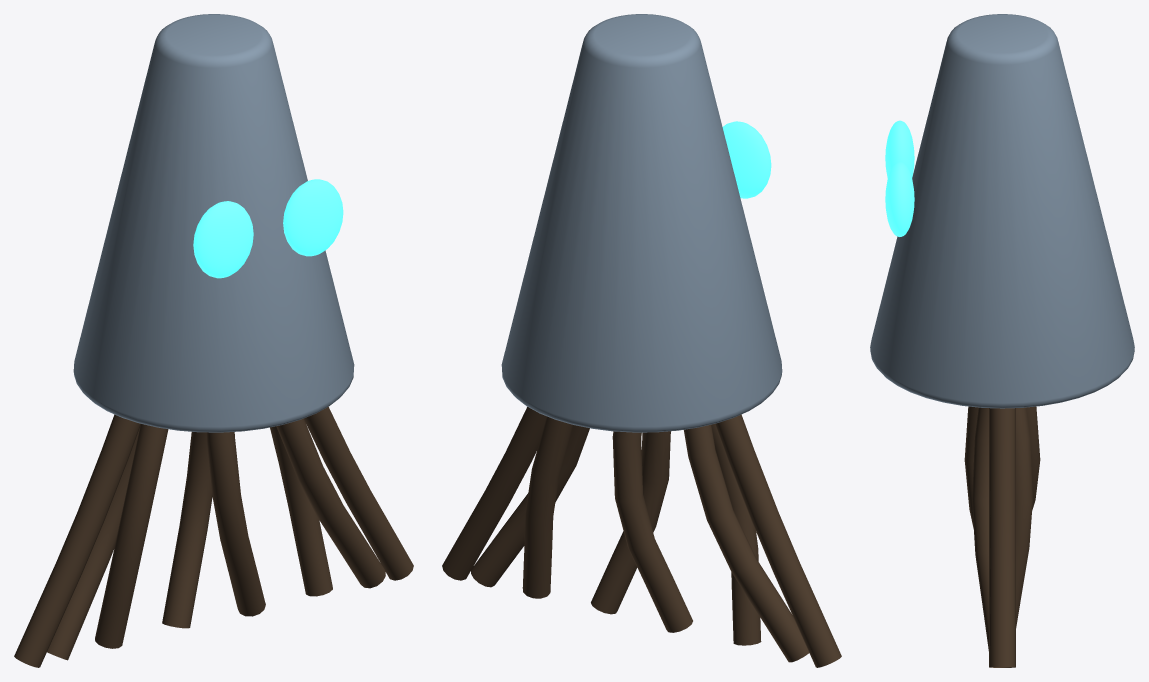
Rendered from aquatic_v5.glb.
The picture shows the model from 3 angles, left to right: view 1: azimuth 30°, elevation 25°; view 2: azimuth 150°, elevation 25°; view 3: azimuth 270°, elevation 25°; orthographic projection. The views are drawn at different scales.
Visible parts, largest first — view 1: SQUID_MANTLE_PRIMARY, SQUID_ARM_SECONDARY.004, SQUID_ARM_SECONDARY.005, SQUID_ARM_SECONDARY.006, SQUID_ARM_SECONDARY.007, SQUID_ARM_SECONDARY.002, SQUID_ARM_SECONDARY, SQUID_ARM_SECONDARY.003, SQUID_ARM_SECONDARY.001, SQUID_EYE_EMISSIVE, SQUID_EYE_EMISSIVE.001; view 2: SQUID_MANTLE_PRIMARY, SQUID_ARM_SECONDARY.004, SQUID_ARM_SECONDARY.003, SQUID_ARM_SECONDARY.002, SQUID_ARM_SECONDARY, SQUID_ARM_SECONDARY.001, SQUID_ARM_SECONDARY.006, SQUID_ARM_SECONDARY.007, SQUID_ARM_SECONDARY.005, SQUID_EYE_EMISSIVE; view 3: SQUID_MANTLE_PRIMARY, SQUID_ARM_SECONDARY, SQUID_ARM_SECONDARY.007, SQUID_ARM_SECONDARY.001, SQUID_EYE_EMISSIVE.001, SQUID_EYE_EMISSIVE, SQUID_ARM_SECONDARY.006, SQUID_ARM_SECONDARY.002.
Part boxes in pixels (x1=…): SQUID_MANTLE_PRIMARY: x1=73, y1=14, x2=354, y2=432; SQUID_ARM_SECONDARY.004: x1=14, y1=414, x2=140, y2=667; SQUID_ARM_SECONDARY.005: x1=95, y1=424, x2=168, y2=648; SQUID_ARM_SECONDARY.006: x1=206, y1=432, x2=265, y2=616; SQUID_ARM_SECONDARY.007: x1=276, y1=418, x2=385, y2=588; SQUID_ARM_SECONDARY.002: x1=162, y1=432, x2=212, y2=628; SQUID_ARM_SECONDARY: x1=304, y1=407, x2=413, y2=580; SQUID_ARM_SECONDARY.003: x1=47, y1=428, x2=139, y2=660; SQUID_ARM_SECONDARY.001: x1=270, y1=426, x2=332, y2=596; SQUID_EYE_EMISSIVE: x1=193, y1=201, x2=253, y2=278; SQUID_EYE_EMISSIVE.001: x1=283, y1=179, x2=343, y2=256; SQUID_MANTLE_PRIMARY: x1=501, y1=14, x2=782, y2=432; SQUID_ARM_SECONDARY.004: x1=715, y1=414, x2=841, y2=667; SQUID_ARM_SECONDARY.003: x1=684, y1=424, x2=809, y2=662; SQUID_ARM_SECONDARY.002: x1=612, y1=431, x2=692, y2=632; SQUID_ARM_SECONDARY: x1=442, y1=407, x2=546, y2=580; SQUID_ARM_SECONDARY.001: x1=522, y1=416, x2=573, y2=598; SQUID_ARM_SECONDARY.006: x1=591, y1=431, x2=670, y2=614; SQUID_ARM_SECONDARY.007: x1=471, y1=425, x2=589, y2=587; SQUID_ARM_SECONDARY.005: x1=711, y1=424, x2=761, y2=645; SQUID_EYE_EMISSIVE: x1=722, y1=121, x2=771, y2=198; SQUID_MANTLE_PRIMARY: x1=870, y1=14, x2=1134, y2=408; SQUID_ARM_SECONDARY: x1=989, y1=408, x2=1015, y2=667; SQUID_ARM_SECONDARY.007: x1=972, y1=407, x2=988, y2=650; SQUID_ARM_SECONDARY.001: x1=1016, y1=407, x2=1032, y2=627; SQUID_EYE_EMISSIVE.001: x1=885, y1=162, x2=914, y2=236; SQUID_EYE_EMISSIVE: x1=885, y1=120, x2=914, y2=177; SQUID_ARM_SECONDARY.006: x1=964, y1=406, x2=978, y2=529; SQUID_ARM_SECONDARY.002: x1=1026, y1=406, x2=1040, y2=509.
Bounding box in the file's own units: 1.76 × 2.5 × 1.08.
